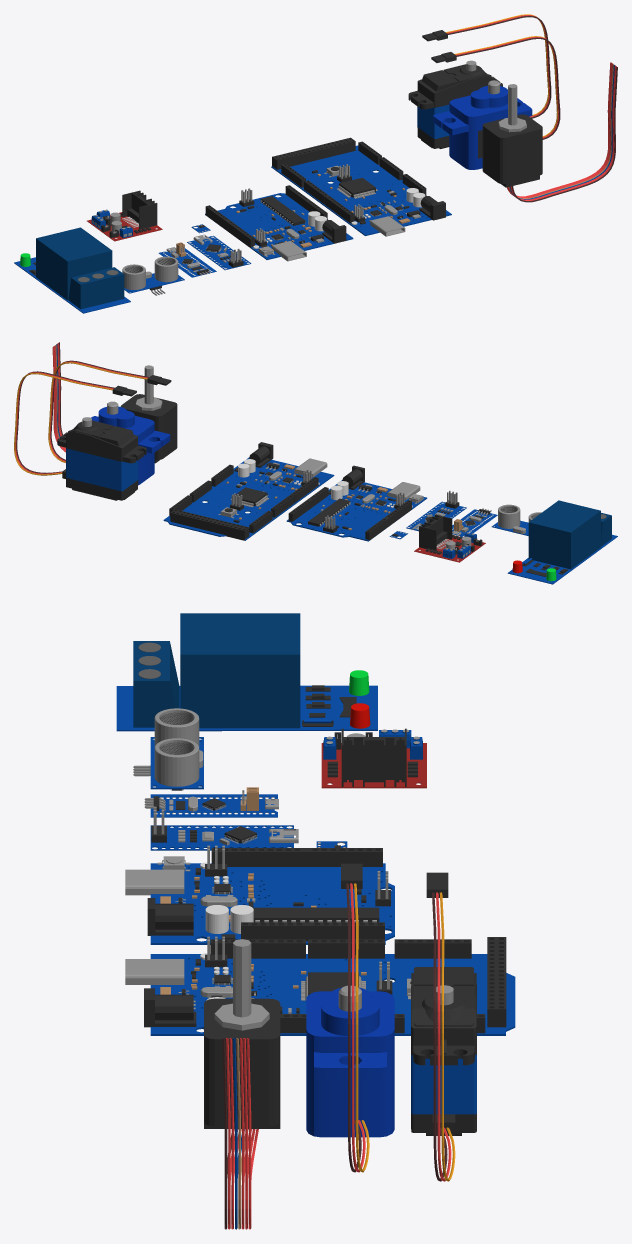
Rendered from Electronics.fbx.
3 renders of one model, top to bottom at view 1: azimuth 30°, elevation 25°; view 2: azimuth 150°, elevation 25°; view 3: azimuth 270°, elevation 25°, orthographic. The views are drawn at different scales.
Parts seen in each view (by area): view 1: Plane.021, GD28STH32-0956A, Plane.022, Плоскость.001, DS3128, Plane.020, Плоскость.003, Cube.115, Plane.032, Cylinder.018, Cylinder.019, Plane.019 (+14 smaller); view 2: DS3128, Плоскость.001, Plane.021, Plane.020, Plane.022, GD28STH32-0956A, Cube.115, Plane.032, Cylinder.019, Плоскость.002, Cylinder.018, Cube.057 (+11 smaller); view 3: Плоскость.001, Plane.022, DS3128, GD28STH32-0956A, Plane.021, Plane.020, Cylinder.019, Плоскость.002, Cylinder.018, Cube.057, Plane.032, Плоскость.003 (+16 smaller).
Boxes of the visible parts, x1,y1,x2,y2 form: Plane.021: [271, 145, 451, 235]; GD28STH32-0956A: [482, 84, 542, 187]; Plane.022: [433, 80, 532, 169]; Плоскость.001: [36, 227, 112, 300]; DS3128: [408, 60, 502, 148]; Plane.020: [205, 193, 353, 259]; Плоскость.003: [68, 267, 124, 309]; Cube.115: [272, 137, 355, 169]; Plane.032: [122, 190, 157, 228]; Cylinder.018: [454, 36, 560, 139]; Cylinder.019: [446, 14, 551, 118]; Plane.019: [187, 235, 251, 270]; DS3128: [57, 417, 146, 500]; Плоскость.001: [528, 500, 600, 569]; Plane.021: [163, 457, 334, 540]; Plane.020: [286, 480, 427, 541]; Plane.022: [91, 401, 170, 485]; GD28STH32-0956A: [120, 365, 177, 463]; Cube.115: [170, 509, 249, 540]; Plane.032: [419, 514, 452, 550]; Cylinder.019: [14, 371, 114, 475]; Плоскость.002: [507, 534, 617, 584]; Cylinder.018: [48, 360, 148, 462]; Cube.057: [365, 500, 411, 540]; Плоскость.001: [180, 613, 300, 728]; Plane.022: [306, 985, 394, 1137]; DS3128: [411, 967, 476, 1135]; GD28STH32-0956A: [204, 939, 280, 1128]; Plane.021: [150, 954, 515, 1035]; Plane.020: [150, 863, 394, 944]; Cylinder.019: [432, 892, 455, 1181]; Плоскость.002: [116, 685, 377, 731]; Cylinder.018: [346, 883, 369, 1172]; Cube.057: [211, 848, 382, 866]; Plane.032: [341, 728, 406, 786]; Плоскость.003: [133, 641, 179, 727].
Bounding box in the file's own units: 53.91 × 12.54 × 17.46.
